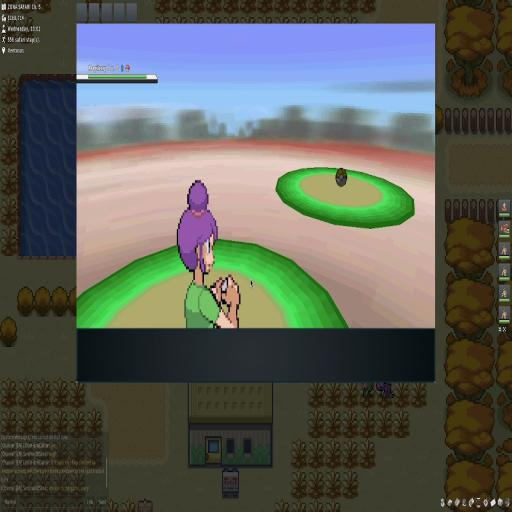SUCESSFULCAPTURE: (336, 168, 348, 187)
